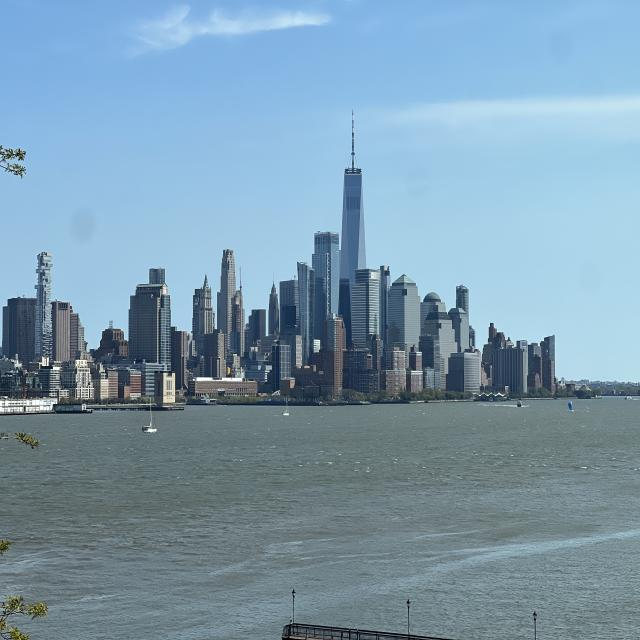WTC: (339, 108, 367, 270)
